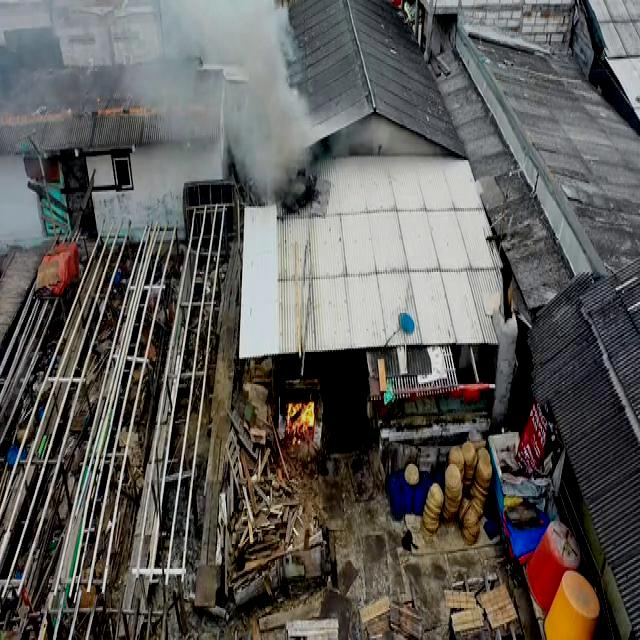smoke: (136, 8, 224, 134), (175, 1, 283, 76), (224, 55, 296, 166), (243, 119, 311, 197)
